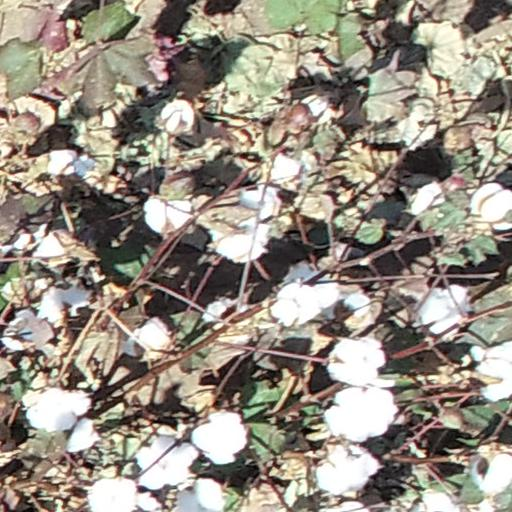Boll: (325, 386, 391, 436), (193, 411, 245, 463), (318, 446, 374, 493), (136, 439, 192, 485), (26, 389, 88, 429), (327, 340, 382, 385), (418, 286, 464, 336), (4, 310, 56, 353), (475, 345, 512, 400), (41, 280, 92, 319), (127, 318, 171, 361), (275, 284, 322, 323), (214, 222, 266, 257), (474, 183, 512, 230), (143, 196, 191, 233), (86, 478, 139, 511), (474, 453, 512, 494), (29, 232, 66, 265), (180, 483, 221, 512), (49, 152, 93, 178), (272, 153, 304, 188), (242, 188, 277, 217), (162, 101, 194, 132)
